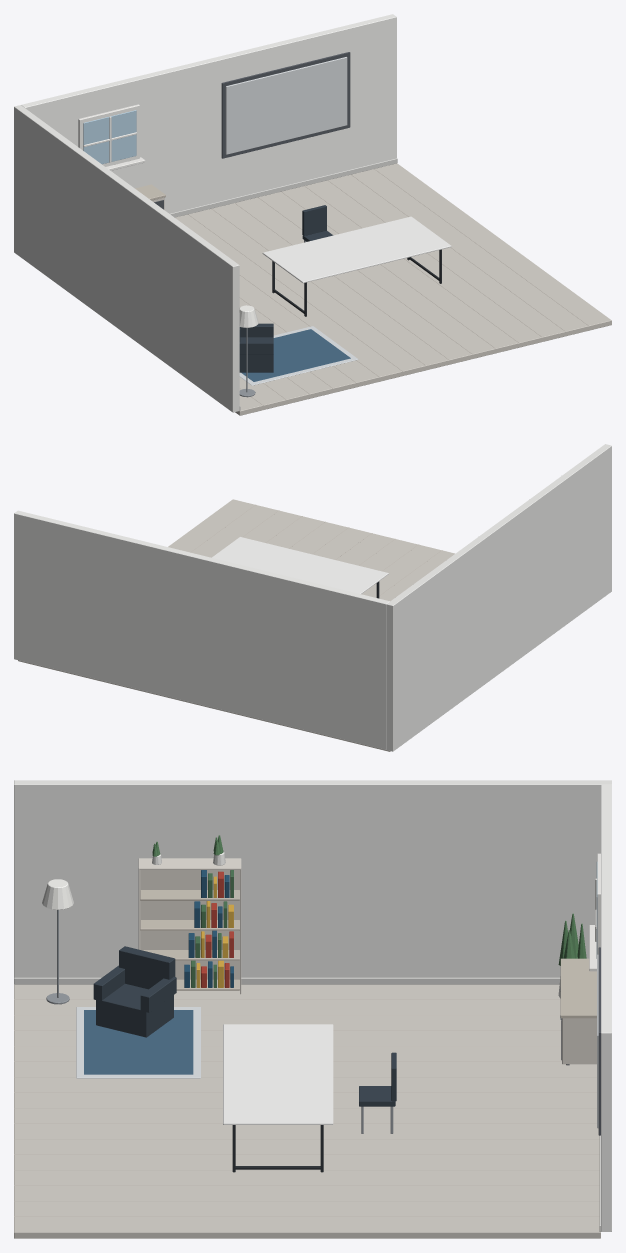
The model's file is room-bureau.glb.
3 renders of one model, top to bottom at view 1: azimuth 30°, elevation 25°; view 2: azimuth 150°, elevation 25°; view 3: azimuth 270°, elevation 25°, orthographic. The views are drawn at different scales.
Visible parts, largest first — view 1: room.floor, room.wall, room.wall-north, room.cork, room.desk, room.rug, room.fabric, room.plank, room.window, room.dark-wood, room.window-frame, room.skirting (+1 smaller); view 2: room.wall-north, room.wall, room.floor, room.desk, room.plank; view 3: room.floor, room.wall, room.desk, room.plank, room.fabric, decor.shelf.oak, room.rug, room.wall-north, room.skirting, decor.shelf.walnut, room.walnut, room.rug-border (+10 smaller).
Part boxes in pixels (x1,y1,x2,y2): room.floor: (175,163,611,415); room.wall: (14,105,239,412); room.wall-north: (21,14,396,213); room.cork: (225,57,347,154); room.desk: (262,216,451,283); room.rug: (241,329,350,381); room.fabric: (239,205,333,372); room.plank: (188,169,588,405); room.window: (83,110,136,164); room.dark-wood: (154,52,350,209); room.window-frame: (78,104,145,170); room.skirting: (170,158,397,410); room.wall-north: (14,510,389,749); room.wall: (386,444,611,751); room.floor: (18,499,454,751); room.desk: (212,537,388,594); room.plank: (190,505,442,595); room.floor: (14,984,600,1238); room.wall: (14,780,611,977); room.desk: (223,1024,333,1124); room.plank: (14,999,599,1216); room.fabric: (93,946,396,1106); decor.shelf.oak: (138,858,241,994); room.rug: (84,1010,193,1074); room.wall-north: (601,785,611,1231); room.skirting: (14,977,600,1231); decor.shelf.walnut: (140,890,239,990); room.walnut: (560,958,596,1018); room.rug-border: (76,1007,200,1078).
Size of the model in its own units: 8.15 by 3.1 by 8.15.
